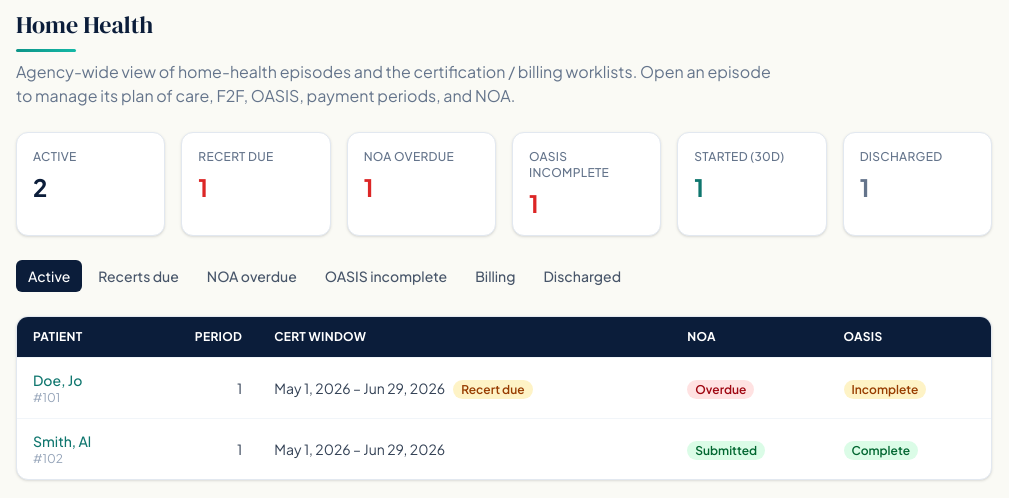
it: HomeHealthDashboardPage › recerts worklist filters to recert-due episodes only
The width and height of the screenshot is (1009, 498).
expect the row with test id "hh-row-101" is shown: met, box top-left (17, 358), bottom-right (991, 418)
Click the tab with test id "hh-tab-recerts" at (139, 276), box top-left (86, 260), bottom-right (191, 292)
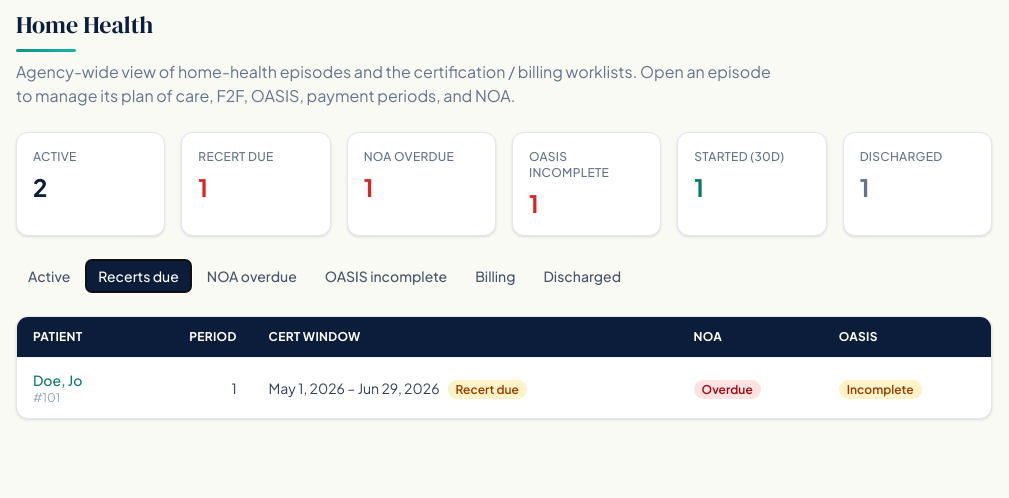
expect the row with test id "hh-row-101" is shown: met, box top-left (17, 358), bottom-right (991, 418)
expect the row with test id "hh-row-102" is gone: met
